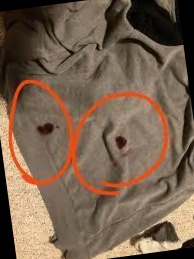ink: (37, 122, 56, 137), (116, 135, 129, 150)
